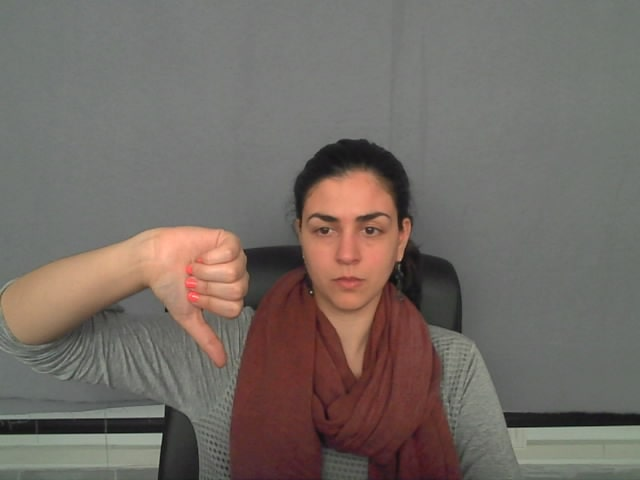down: (122, 216, 271, 378)
